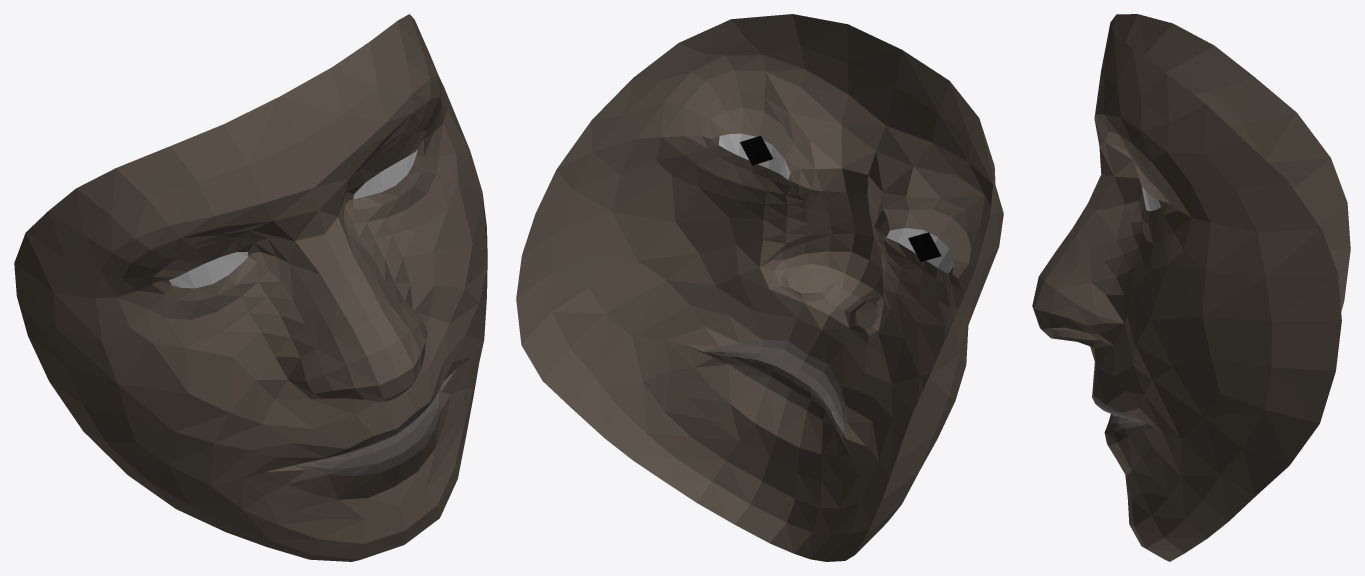
The model's file is sympathetic.obj.
3 renders of one model, left to right at view 1: azimuth 30°, elevation 25°; view 2: azimuth 150°, elevation 25°; view 3: azimuth 270°, elevation 25°, orthographic. The views are drawn at different scales.
Parts seen in each view (by area): view 1: face_model_with_iris; view 2: face_model_with_iris; view 3: face_model_with_iris.
Part boxes in pixels (<box>): face_model_with_iris: <box>14,14,487,561</box>; face_model_with_iris: <box>516,14,1003,561</box>; face_model_with_iris: <box>1032,14,1350,561</box>.
Bounding box in the file's own units: 0.8506 × 0.997 × 0.5779.
